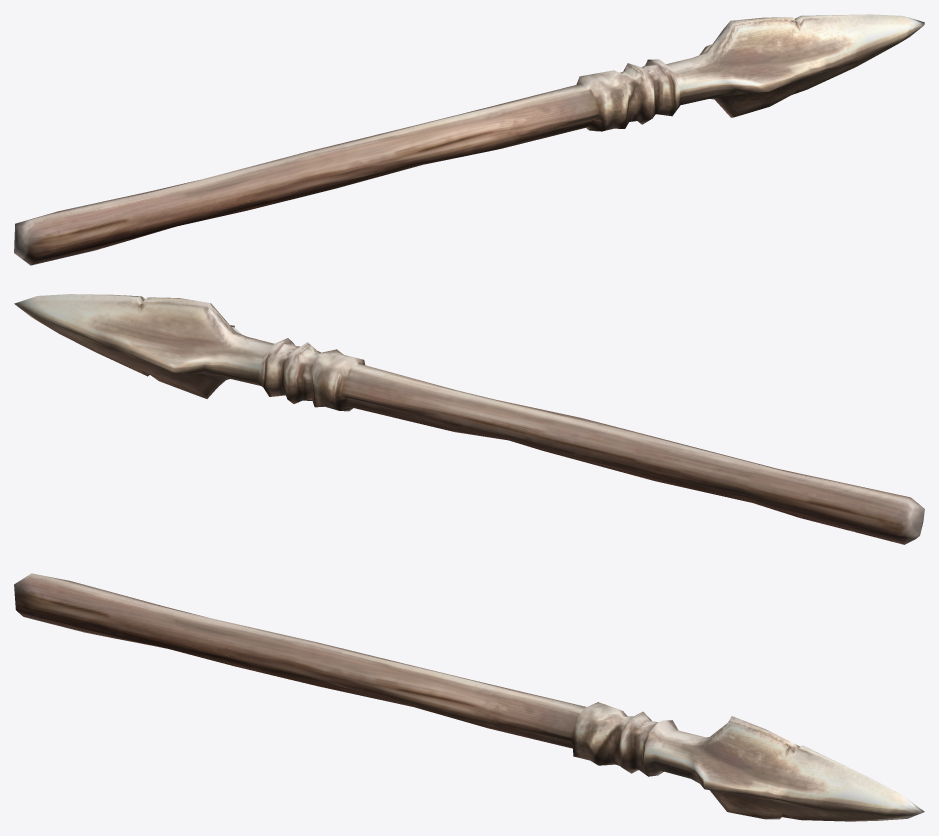
Rendered from Spear.glb.
The picture shows the model from 3 angles, top to bottom: view 1: azimuth 30°, elevation 25°; view 2: azimuth 150°, elevation 25°; view 3: azimuth 330°, elevation 25°; orthographic projection.
Parts seen in each view (by area): view 1: tripo_node_40e12543-45e4-4685-b39d-70b6217f3cdb; view 2: tripo_node_40e12543-45e4-4685-b39d-70b6217f3cdb; view 3: tripo_node_40e12543-45e4-4685-b39d-70b6217f3cdb.
Boxes of the visible parts, bbox=[...] form: tripo_node_40e12543-45e4-4685-b39d-70b6217f3cdb: bbox=[14, 14, 924, 265]; tripo_node_40e12543-45e4-4685-b39d-70b6217f3cdb: bbox=[14, 294, 924, 544]; tripo_node_40e12543-45e4-4685-b39d-70b6217f3cdb: bbox=[14, 573, 924, 821].
Bounding box in the file's own units: 1 × 0.1022 × 0.1193.
Materials: 1 (1 with a texture image).
